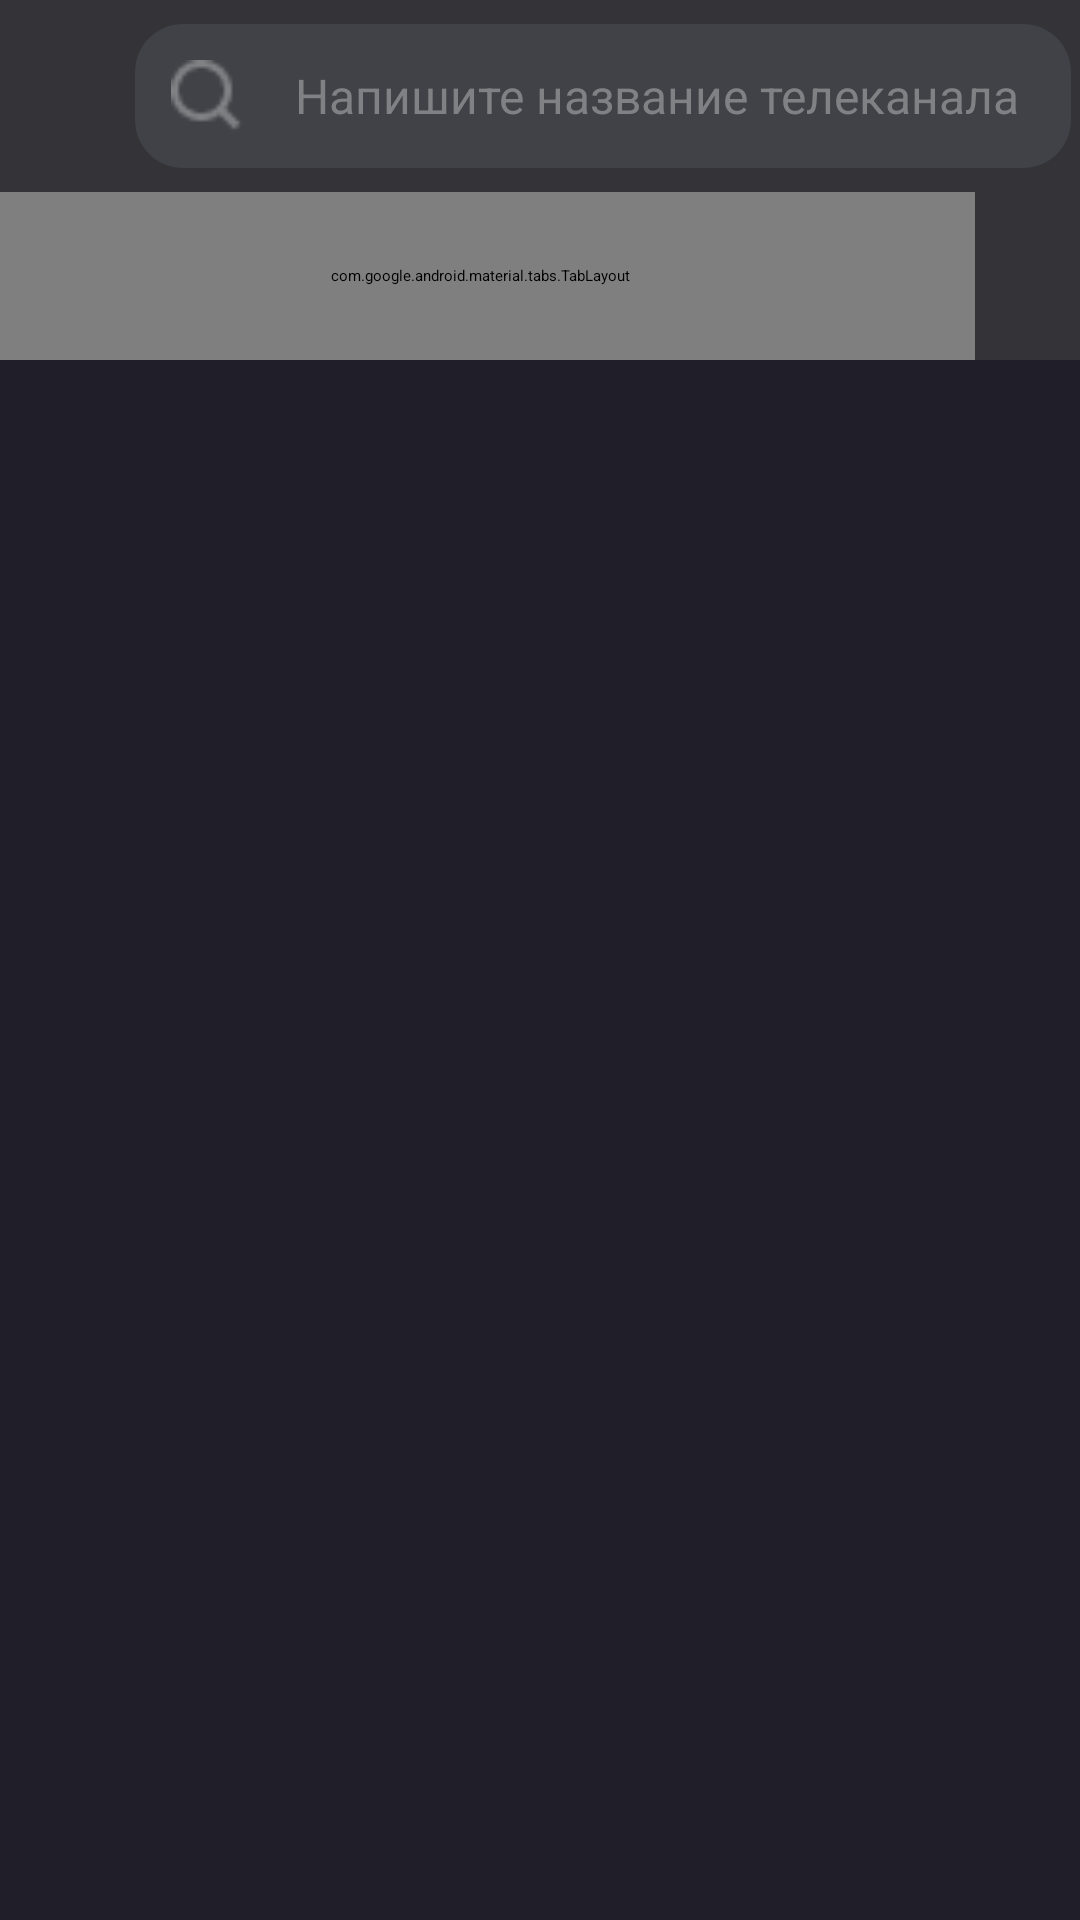

Icon bounding boxes for this 1080px×1920px phone screenshot, format (x1, y1, x2, y2):
shapefind: (171, 60, 240, 129)
